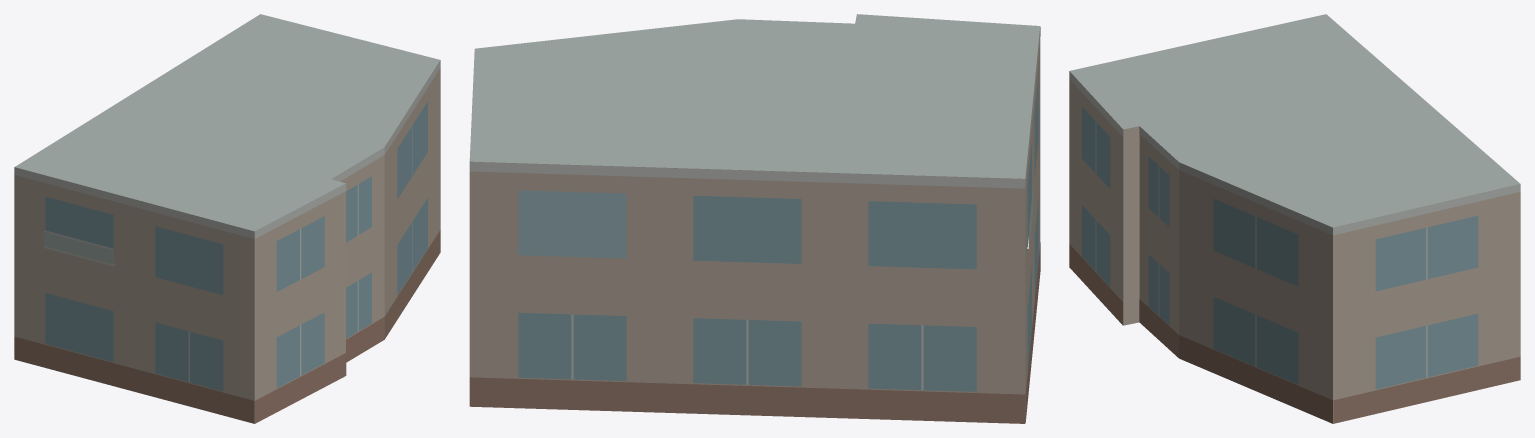
Rendered from survey-upis-32818831.glb.
3 views of the same model, side by side, from view 1: azimuth 30°, elevation 25°; view 2: azimuth 150°, elevation 25°; view 3: azimuth 270°, elevation 25° (orthographic). The views are drawn at different scales.
Parts seen in each view (by area): view 1: survey-upis-32818831.tmp; view 2: survey-upis-32818831.tmp; view 3: survey-upis-32818831.tmp.
Part boxes in pixels (<box>): survey-upis-32818831.tmp: <box>14,14,440,423</box>; survey-upis-32818831.tmp: <box>469,14,1040,423</box>; survey-upis-32818831.tmp: <box>1069,14,1520,423</box>.
Size of the model in its own units: 14.25 by 6.1 by 12.72.
